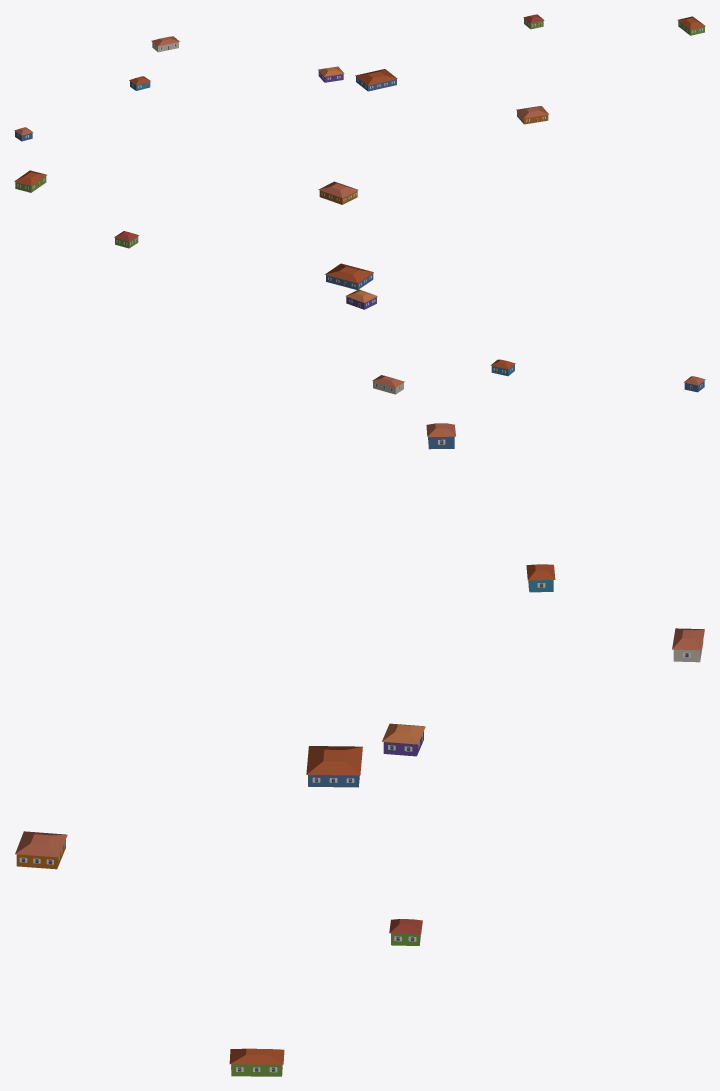
Rendered from msb_sannicolas_15_23.glb.
3 renders of one model, top to bottom at view 1: azimuth 30°, elevation 25°; view 2: azimuth 150°, elevation 25°; view 3: azimuth 270°, elevation 25°, orthographic. The views are drawn at different scales.
Parts seen in each view (by area): view 1: msb_sannicolas_15_23_lod0; view 2: msb_sannicolas_15_23_lod0; view 3: msb_sannicolas_15_23_lod0.
Part boxes in pixels (x1=…): msb_sannicolas_15_23_lod0: x1=14, y1=14, x2=705, y2=141; msb_sannicolas_15_23_lod0: x1=14, y1=170, x2=705, y2=394; msb_sannicolas_15_23_lod0: x1=15, y1=423, x2=704, y2=1076.
Size of what is drawn, in the model's own units: 367 by 10.22 by 172.
Materials: 2 (1 with a texture image).
